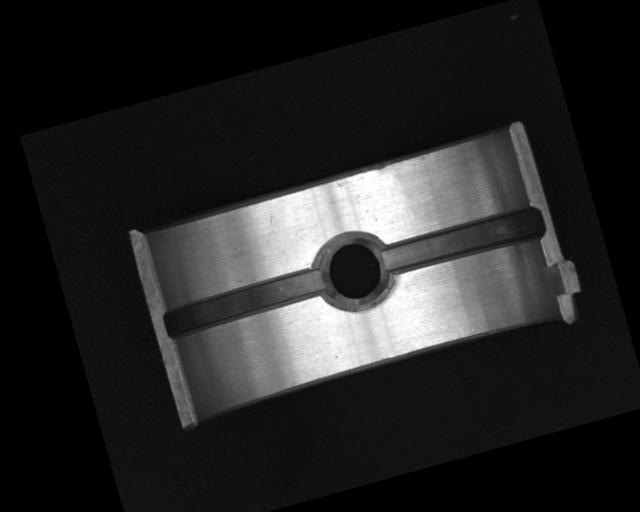gap: (158, 262, 333, 343), (378, 201, 548, 279)
hole: (308, 225, 399, 318)
